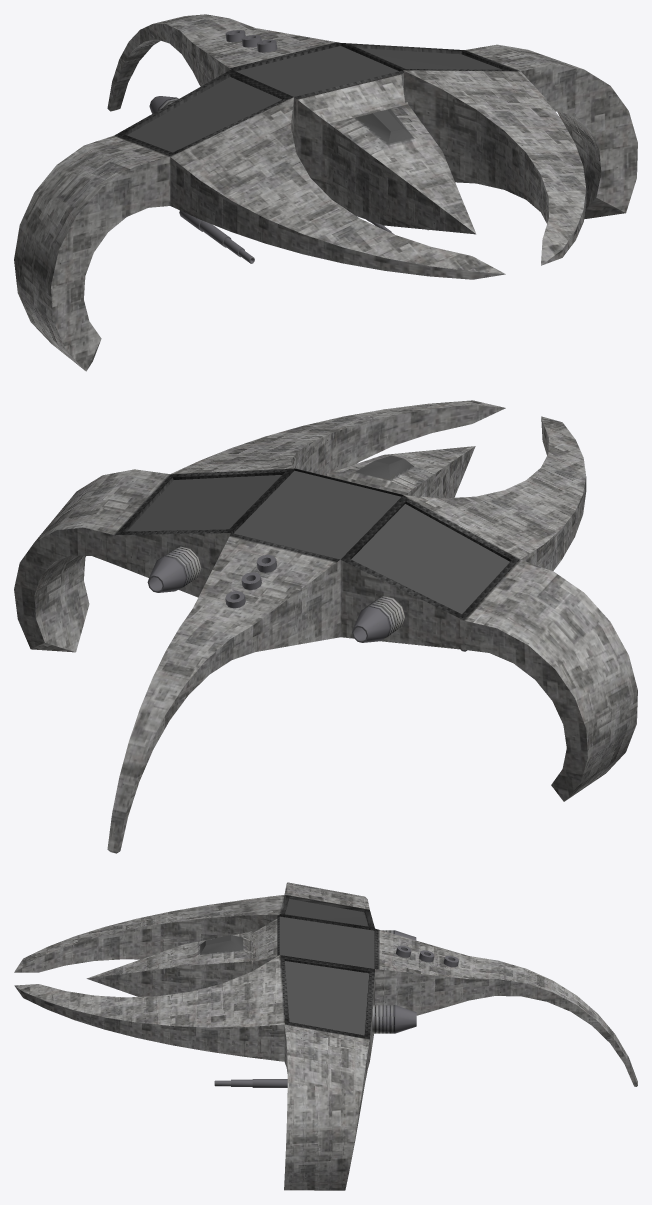
The model's file is spaceship1.gltf.
3 views of the same model, one above another, from view 1: azimuth 30°, elevation 25°; view 2: azimuth 150°, elevation 25°; view 3: azimuth 270°, elevation 25° (orthographic). The views are drawn at different scales.
Parts seen in each view (by area): view 1: vaisseau.1; view 2: vaisseau.1; view 3: vaisseau.1.
Boxes of the visible parts, left/top/right/bottom form: vaisseau.1: left=14, top=14, right=637, bottom=371; vaisseau.1: left=14, top=400, right=637, bottom=853; vaisseau.1: left=14, top=882, right=637, bottom=1190.
Bounding box in the file's own units: 1054 × 407 × 1278.
1 material, 1 textured.
